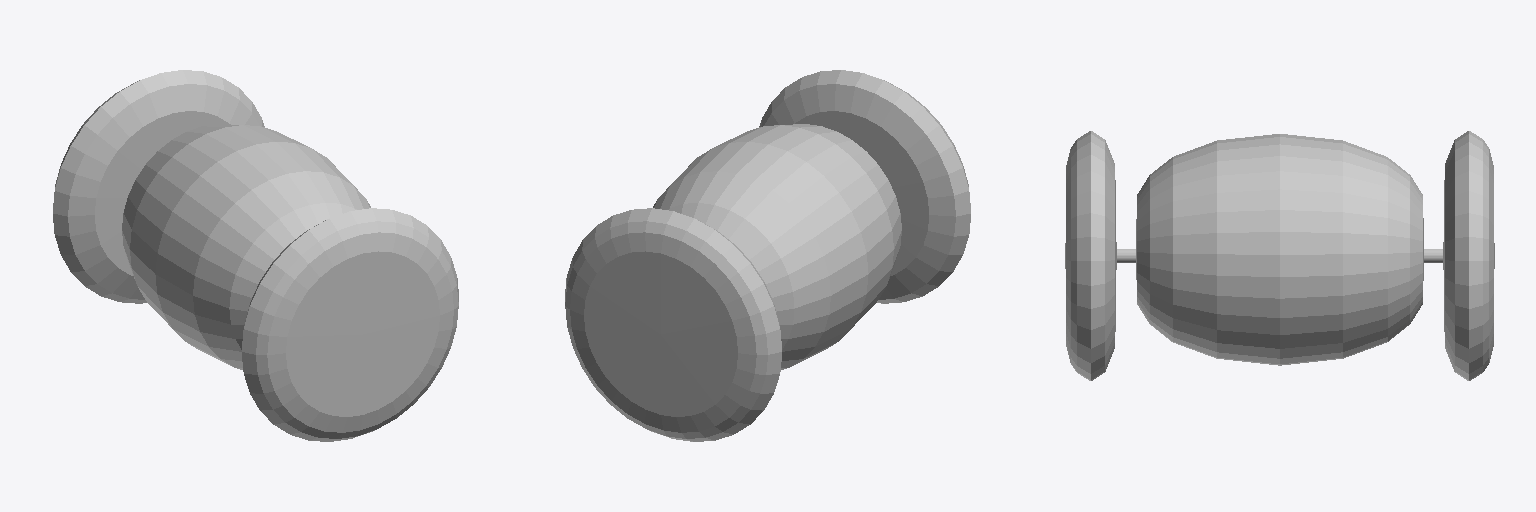
The model's file is toy.obj.
3 renders of one model, left to right at view 1: azimuth 30°, elevation 25°; view 2: azimuth 150°, elevation 25°; view 3: azimuth 270°, elevation 25°, orthographic.
Parts seen in each view (by area): view 1: R.Wheel_Cylinder.002, Body_Cylinder, L.Wheel_Cylinder.003; view 2: L.Wheel_Cylinder.003, Body_Cylinder, R.Wheel_Cylinder.002; view 3: Body_Cylinder, R.Wheel_Cylinder.002, L.Wheel_Cylinder.003.
Part boxes in pixels (x1,y1,x2,y2): R.Wheel_Cylinder.002: (242,208,458,441); Body_Cylinder: (122,124,370,369); L.Wheel_Cylinder.003: (53,70,264,303); L.Wheel_Cylinder.003: (565,208,781,441); Body_Cylinder: (653,124,901,369); R.Wheel_Cylinder.002: (759,70,970,303); Body_Cylinder: (1136,134,1423,365); R.Wheel_Cylinder.002: (1065,131,1135,380); L.Wheel_Cylinder.003: (1424,131,1494,380).
Bounding box in the file's own units: 0.5197 × 0.5197 × 0.8862.